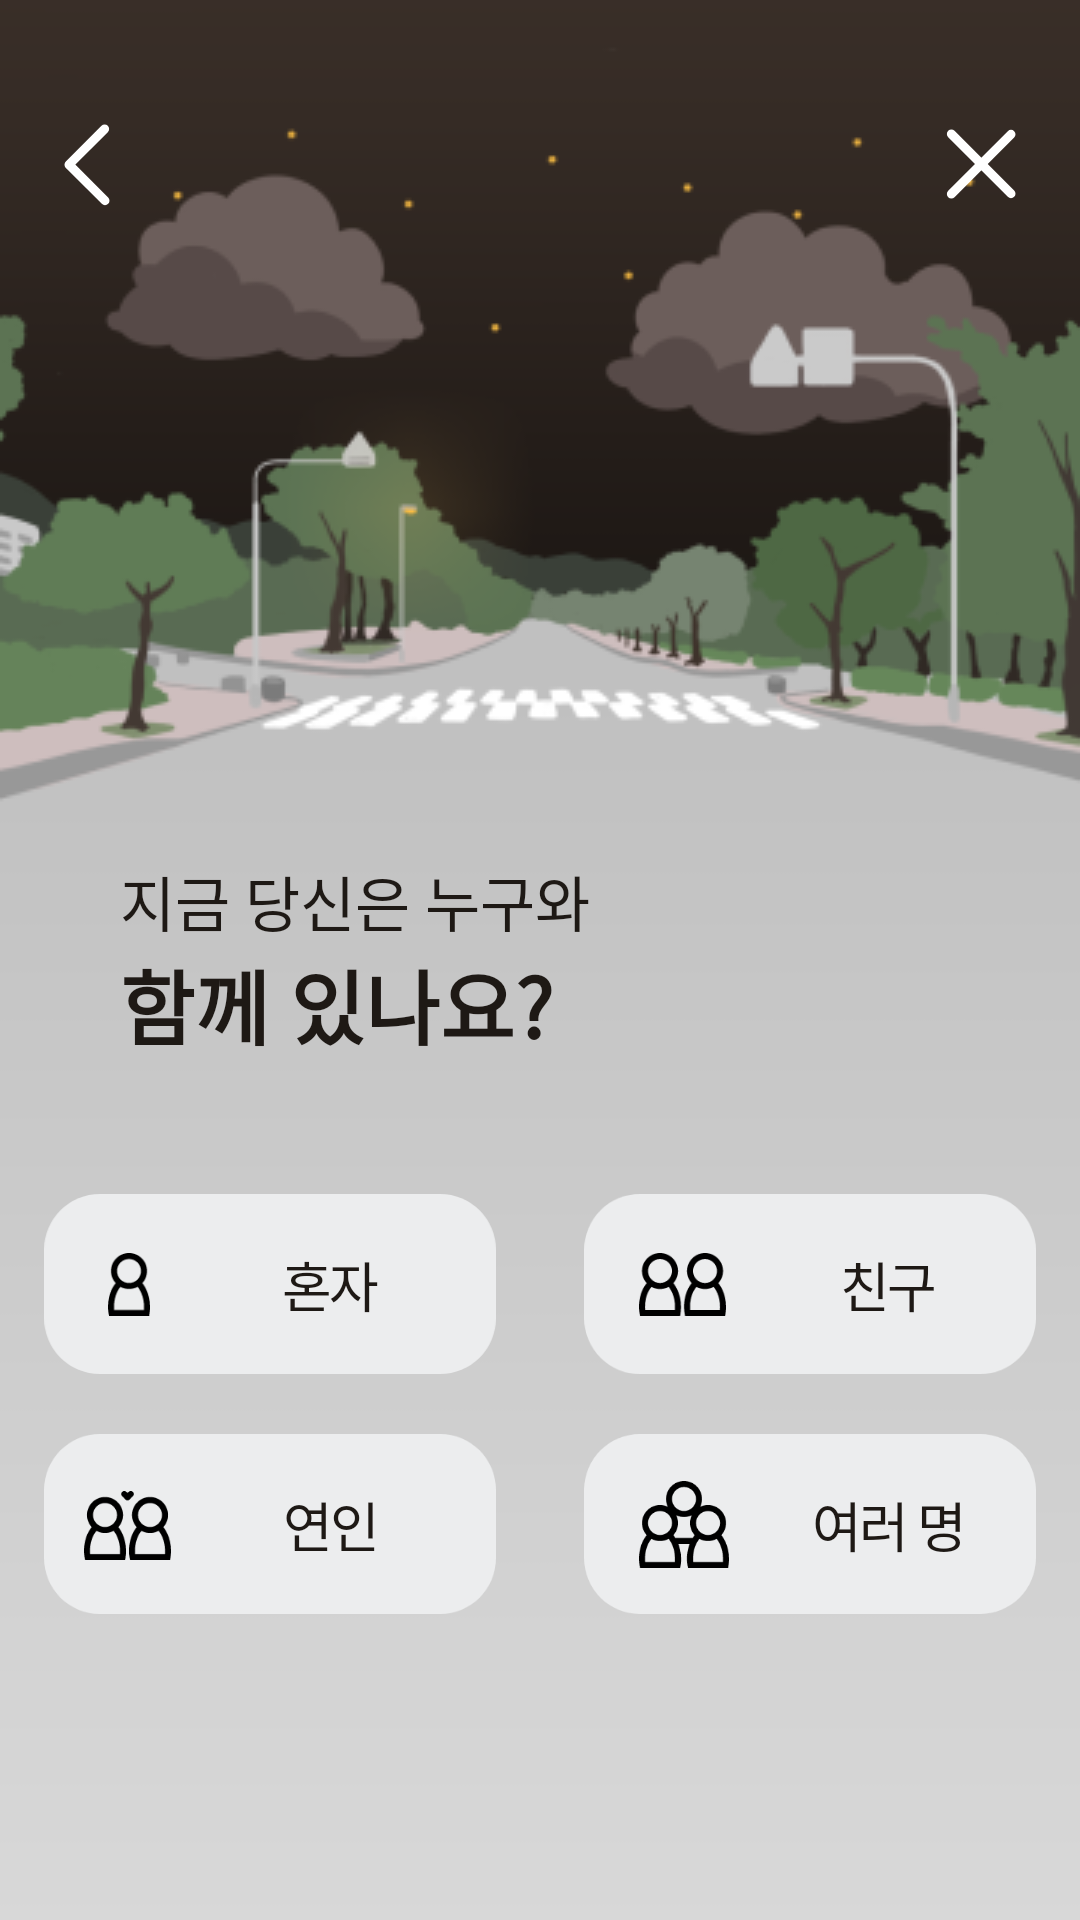

Locate icon controls on the screen. Image size 1080 x 1920, boxes as bbox(x1, y1, x2, y2).
back arrow: bbox(64, 124, 110, 205)
cancel: bbox(947, 129, 1016, 199)
